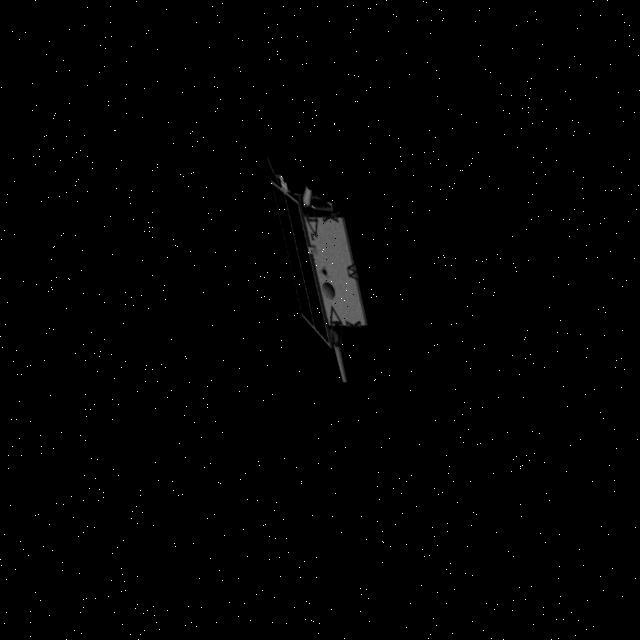medium_debris: (254, 176, 390, 388)
